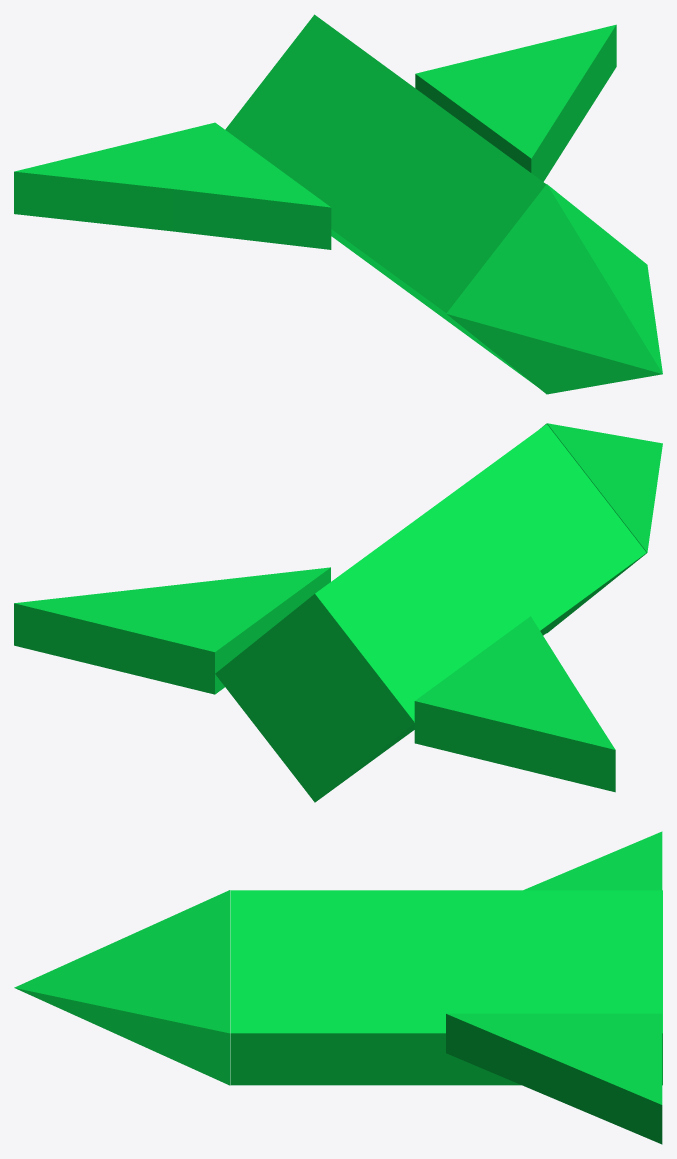
File: Player.fbx
The picture shows the model from 3 angles, top to bottom: view 1: azimuth 30°, elevation 25°; view 2: azimuth 150°, elevation 25°; view 3: azimuth 270°, elevation 25°; orthographic projection. The views are drawn at different scales.
Visible parts, largest first — view 1: 円錐; view 2: 円錐; view 3: 円錐.
Boxes of the visible parts, x1=… form: 円錐: x1=14, y1=14, x2=662, y2=394; 円錐: x1=14, y1=423, x2=662, y2=802; 円錐: x1=14, y1=831, x2=662, y2=1144.
Size of the model in its own units: 299 by 100 by 300.
